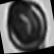correct: (1, 0, 54, 54)
